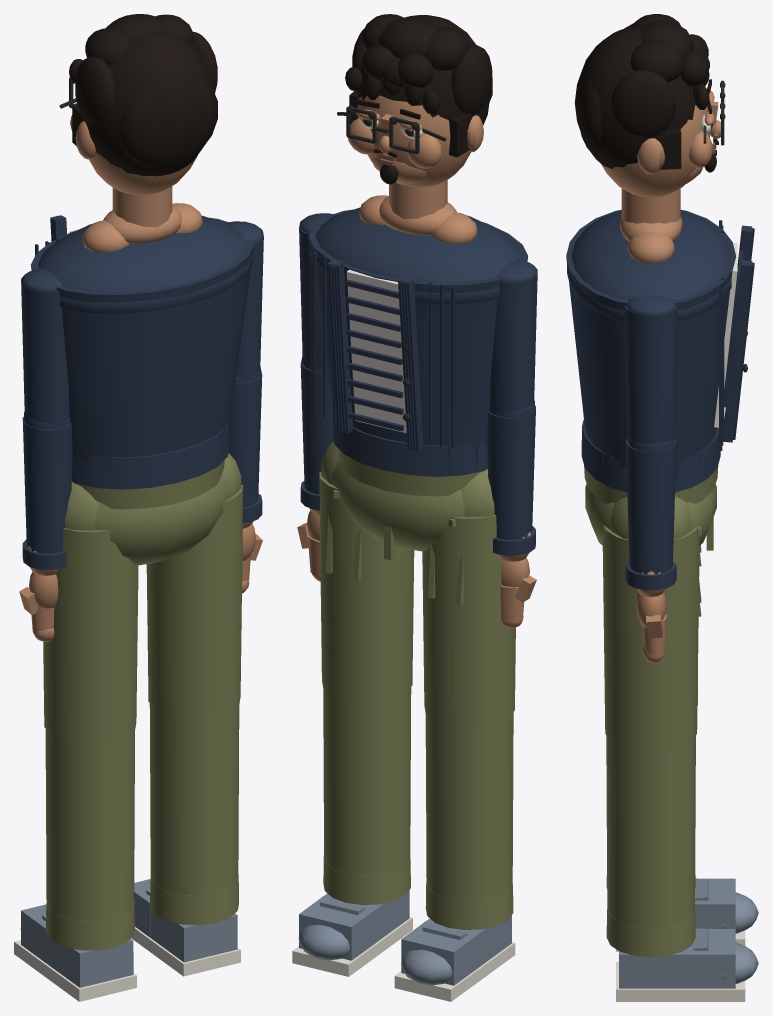
File: male_3.glb
The picture shows the model from 3 angles, left to right: view 1: azimuth 30°, elevation 25°; view 2: azimuth 150°, elevation 25°; view 3: azimuth 270°, elevation 25°; orthographic projection.
Parts seen in each view (by area): view 1: Mesh_Torso, Mesh_Hair, Mesh_ThighR, Mesh_ShinR, Mesh_ShinL, Mesh_ThighL, Mesh_Pelvis, Mesh_LowerArmR, Mesh_UpperArmR, Mesh_Neck, Mesh_FootR, Mesh_FootL (+7 smaller); view 2: Mesh_Torso, Mesh_ShinL, Mesh_ShinR, Mesh_ThighR, Mesh_ThighL, Mesh_Hair, Mesh_Pelvis, Mesh_Head, Mesh_LowerArmR, Mesh_UpperArmR, Mesh_Neck, Mesh_ToeR (+8 smaller); view 3: Mesh_Torso, Mesh_ShinL, Mesh_ThighL, Mesh_Hair, Mesh_UpperArmL, Mesh_LowerArmL, Mesh_Head, Mesh_FootL, Mesh_Neck, Mesh_ToeL, Mesh_Pelvis, Mesh_ToeR (+1 smaller).
Boxes of the visible parts, x1,y1,x2,y2 form: Mesh_Torso: [31, 215, 253, 489]; Mesh_Hair: [69, 14, 217, 176]; Mesh_ThighR: [43, 481, 138, 743]; Mesh_ShinR: [45, 729, 134, 950]; Mesh_ShinL: [149, 703, 239, 924]; Mesh_ThighL: [146, 453, 243, 718]; Mesh_Pelvis: [73, 460, 230, 565]; Mesh_LowerArmR: [22, 411, 72, 575]; Mesh_UpperArmR: [21, 268, 69, 427]; Mesh_Neck: [82, 186, 202, 252]; Mesh_FootR: [14, 934, 136, 1001]; Mesh_FootL: [131, 909, 240, 976]; Mesh_Torso: [308, 207, 527, 476]; Mesh_ShinL: [323, 687, 411, 904]; Mesh_ShinR: [425, 712, 513, 929]; Mesh_ThighR: [422, 469, 515, 726]; Mesh_ThighL: [319, 441, 414, 701]; Mesh_Hair: [345, 14, 492, 157]; Mesh_Pelvis: [332, 448, 486, 560]; Mesh_Head: [348, 95, 483, 187]; Mesh_LowerArmR: [487, 400, 535, 561]; Mesh_UpperArmR: [490, 259, 537, 414]; Mesh_Neck: [359, 180, 477, 243]; Mesh_ToeR: [401, 921, 478, 985]; Mesh_Torso: [566, 209, 754, 492]; Mesh_ShinL: [606, 736, 695, 957]; Mesh_ThighL: [602, 496, 701, 752]; Mesh_Hair: [574, 14, 709, 169]; Mesh_UpperArmL: [624, 295, 677, 443]; Mesh_LowerArmL: [625, 438, 676, 597]; Mesh_Head: [601, 79, 720, 197]; Mesh_FootL: [616, 950, 745, 1001]; Mesh_Neck: [620, 188, 682, 263]; Mesh_ToeL: [685, 928, 758, 988]; Mesh_Pelvis: [584, 465, 718, 550]; Mesh_ToeR: [695, 878, 758, 933].
Bounding box in the file's own units: 0.4775 × 1.82 × 0.3398.
